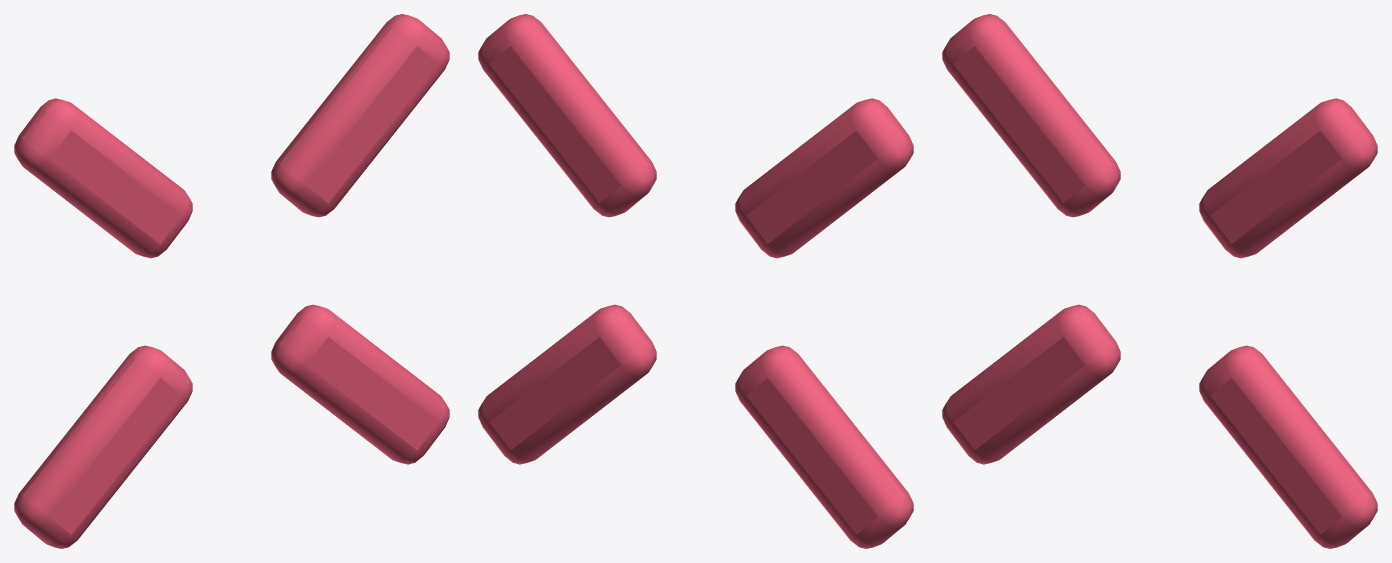
Rendered from angry.glb.
3 renders of one model, left to right at view 1: azimuth 30°, elevation 25°; view 2: azimuth 150°, elevation 25°; view 3: azimuth 330°, elevation 25°, orthographic.
Parts seen in each view (by area): view 1: cef5f7e; view 2: cef5f7e; view 3: cef5f7e.
Boxes of the visible parts, <box> form: cef5f7e: <box>14,14,449,548</box>; cef5f7e: <box>478,14,913,548</box>; cef5f7e: <box>942,14,1377,548</box>.
Bounding box in the file's own units: 0.7968 × 0.7921 × 0.08.
